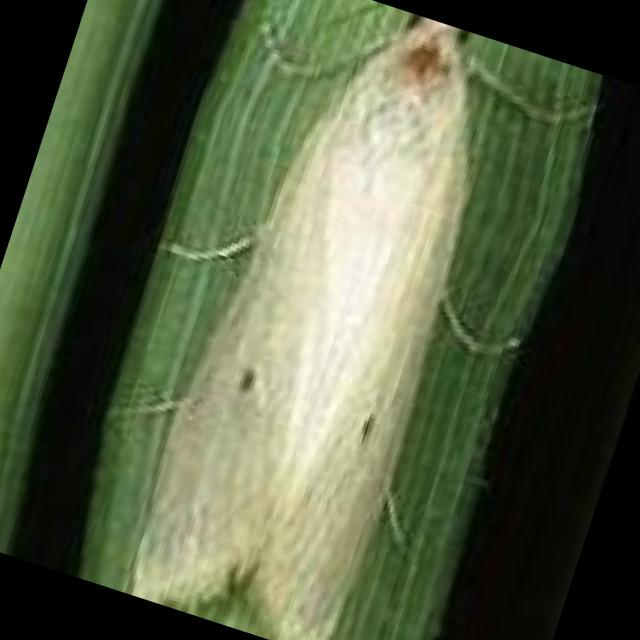stem-borer: (108, 0, 566, 640)
